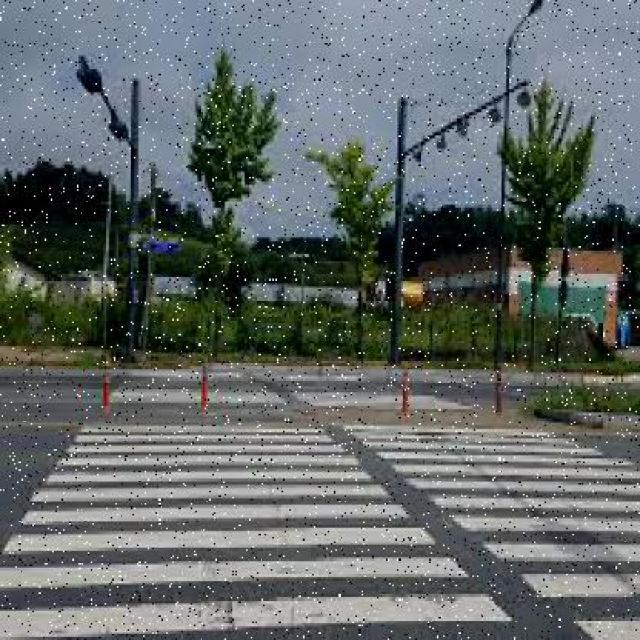crosswalk: (0, 424, 529, 640), (347, 425, 639, 640)
